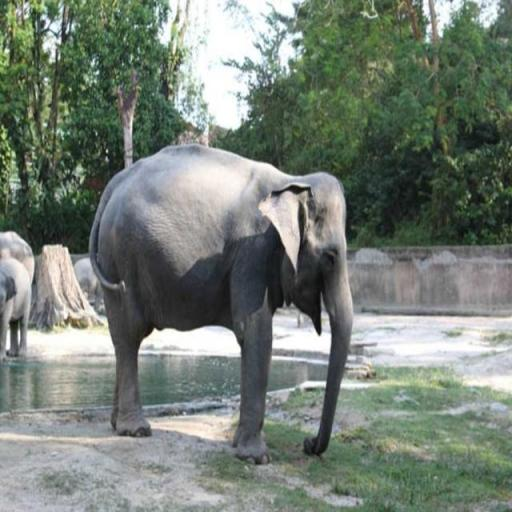Elephant: (88, 142, 354, 464), (0, 256, 31, 358)
